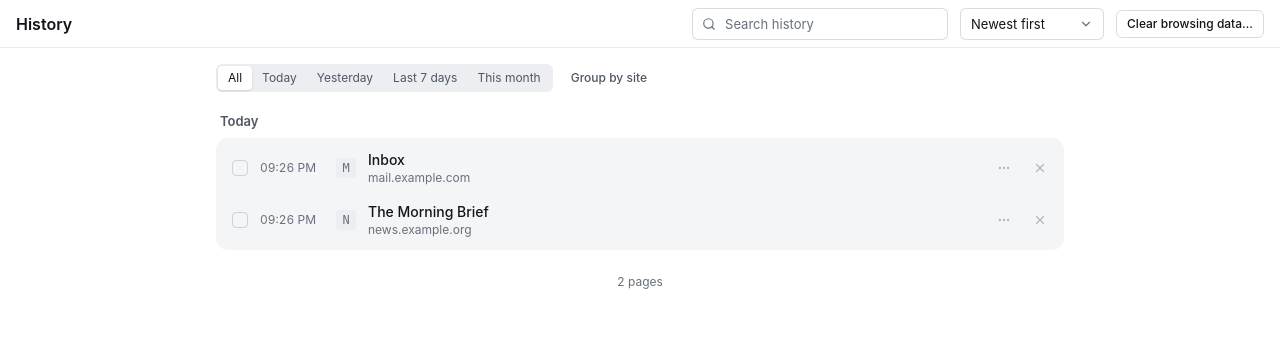
Test: the history list › groups by site when asked
Check: the text "Inbox" is shown, box [368,150,405,170]
Click the button "Group by site" at (609, 78), box [561,64,657,92]
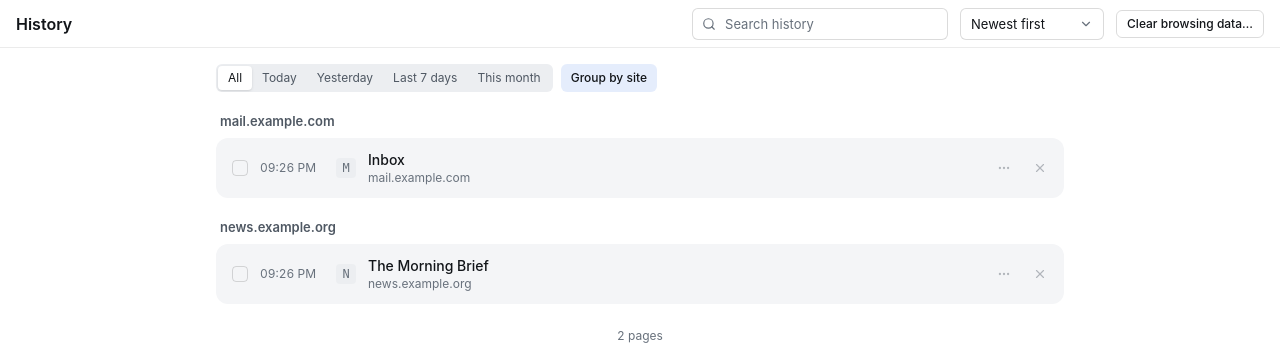
Check: the heading "mail.example.com" is shown, box [216,92,1064,138]
